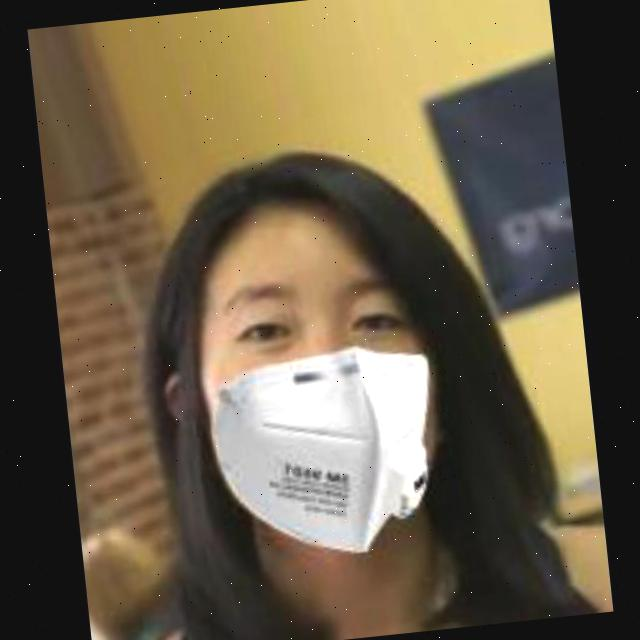suspicion: (140, 142, 456, 593)
